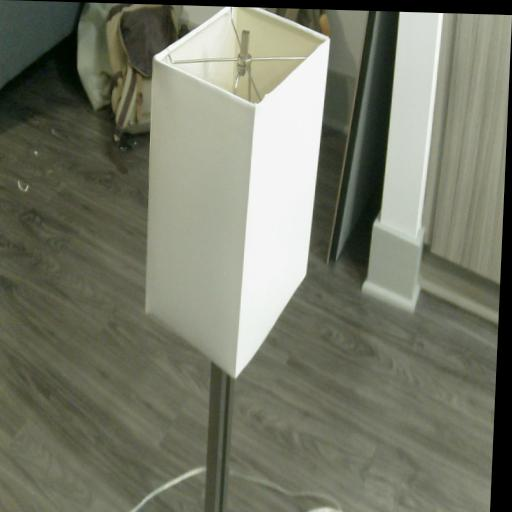lamp: (132, 5, 331, 512)
